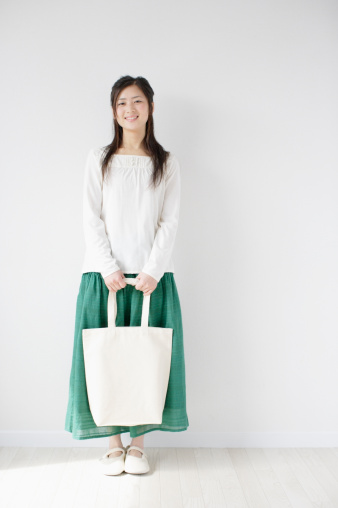em pe: (61, 74, 196, 368)
